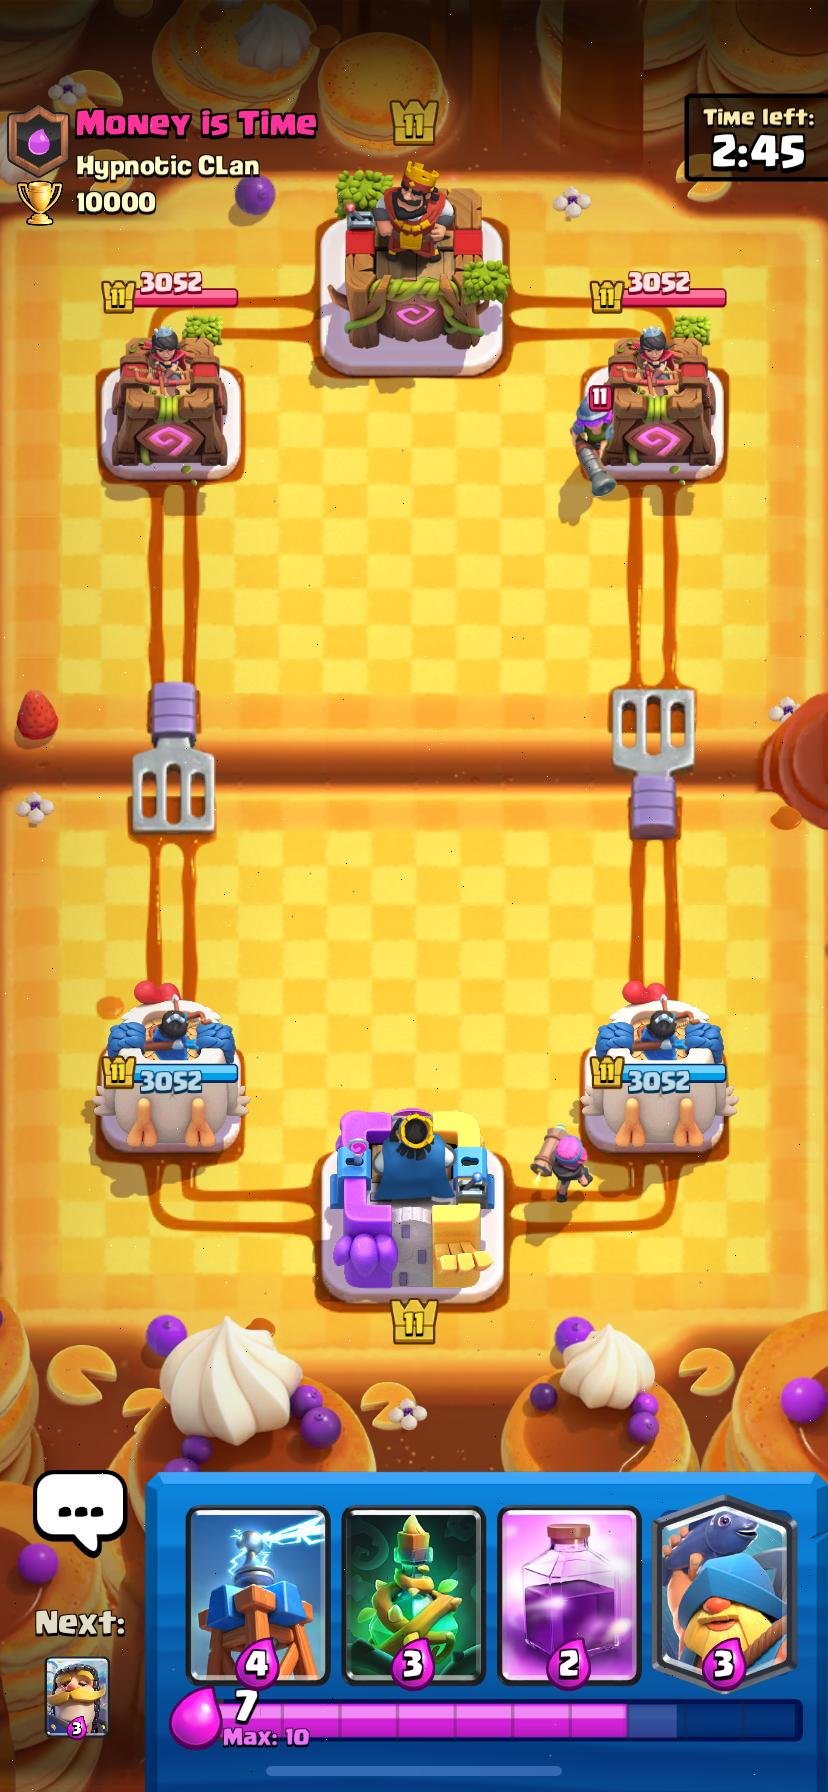EKingTower: (343, 163, 508, 351)
EMusk: (571, 389, 615, 497)
EnemyPrincessTower: (599, 328, 714, 480), (112, 326, 226, 473)
OFirecrack: (535, 1126, 592, 1202)
OwnKingTower: (321, 1109, 503, 1305)
OwnPrincessTower: (580, 982, 735, 1152), (93, 983, 248, 1152)
